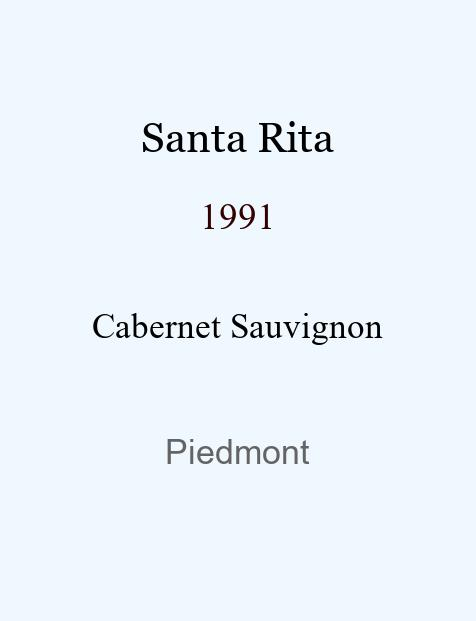brand: (141, 113, 334, 144)
region: (165, 433, 310, 458)
variety: (92, 306, 383, 338)
vintage: (200, 196, 276, 221)
